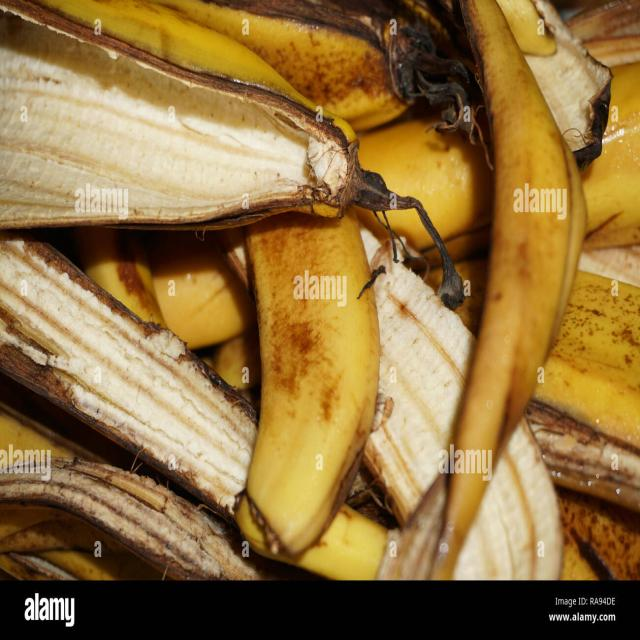banana_peel: (366, 0, 608, 579), (0, 0, 390, 238), (212, 222, 389, 583)
